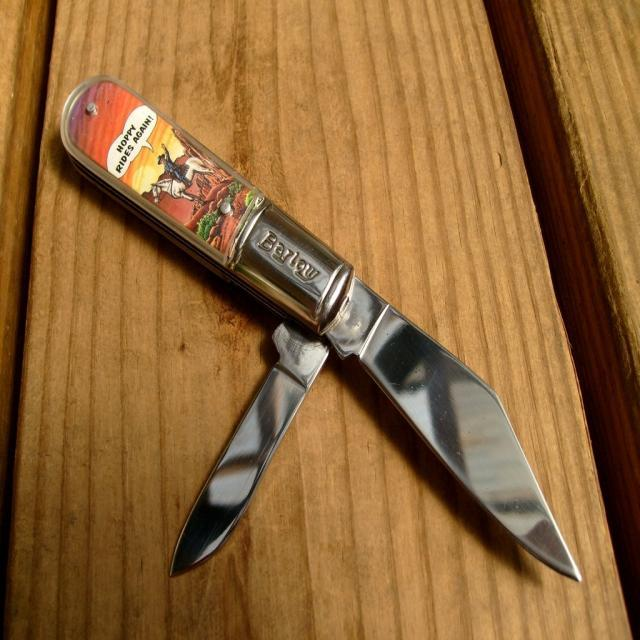Knife: (61, 76, 579, 579)
